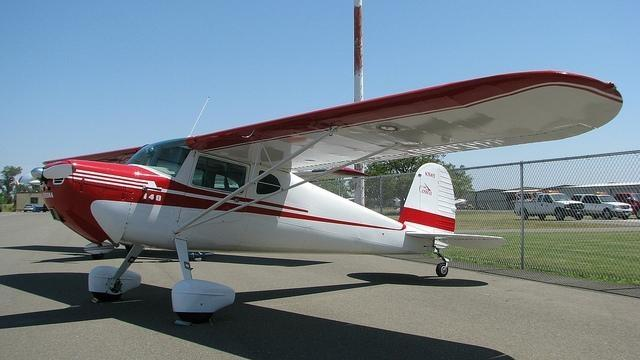car: (614, 192, 640, 219), (22, 201, 44, 214)
truck: (513, 192, 585, 222), (572, 192, 634, 220), (614, 193, 640, 218)
